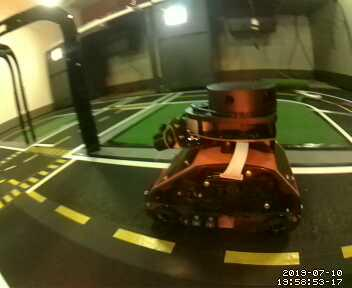pheeno: (144, 80, 305, 237)
